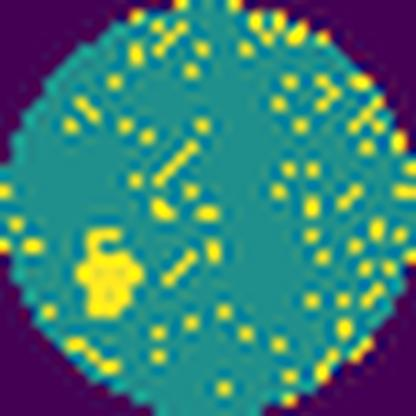Loc: (73, 228, 144, 315)
